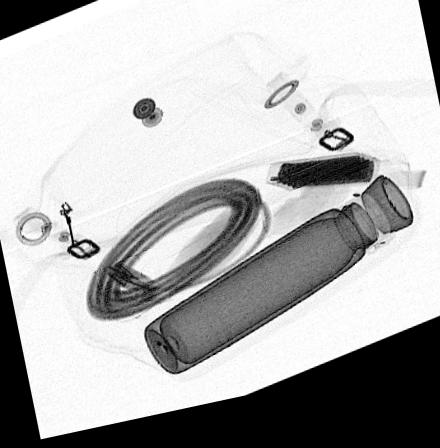Powerbank: (263, 165, 379, 203)
